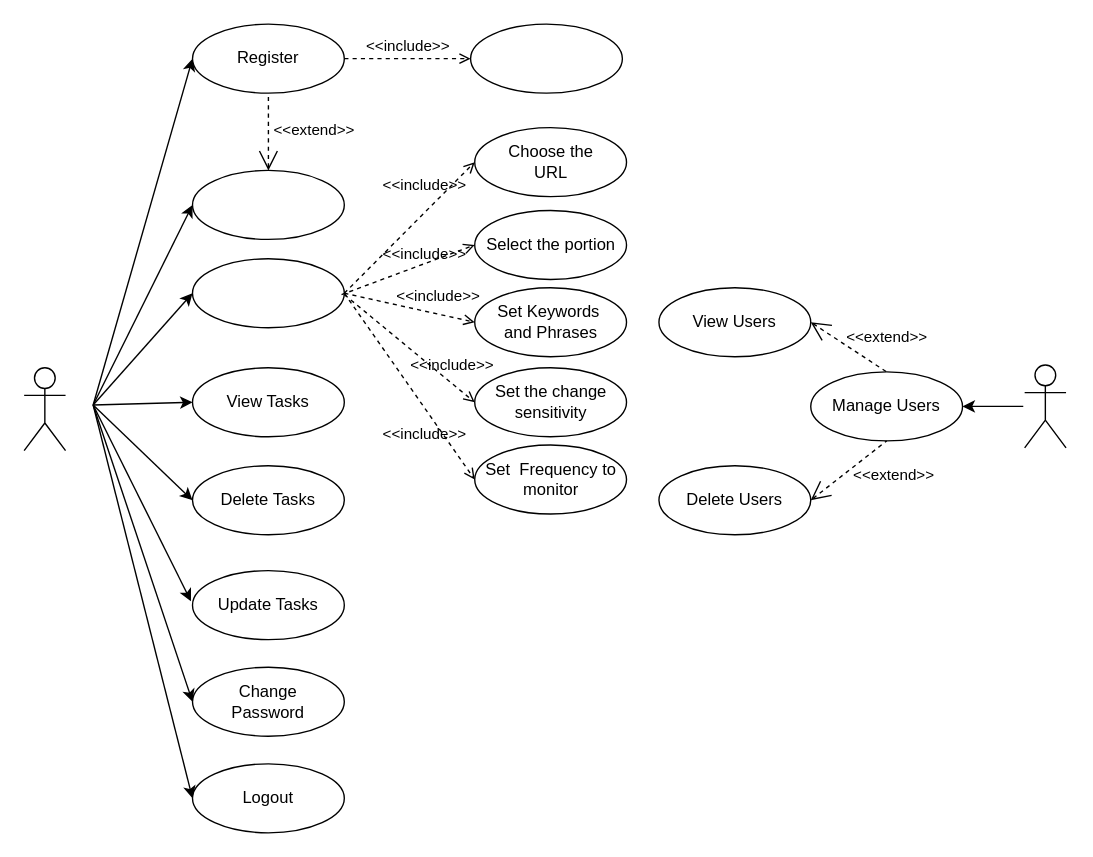
Image size: 1093x857. Some labels were removed from this diagram. Each missing label, with the centre of its shape:
Admin: point (1044, 406)
Create Task: point (267, 292)
Login: point (267, 204)
User: point (44, 408)
Validation: point (545, 58)
